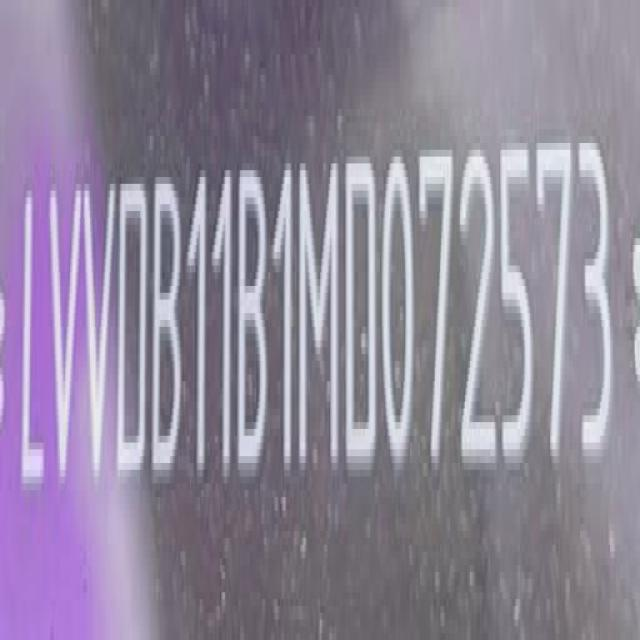0: (385, 146, 417, 482)
1: (273, 163, 296, 487), (211, 162, 233, 489), (190, 164, 210, 490)
2: (458, 138, 495, 480)
3: (582, 135, 616, 468)
5: (501, 137, 536, 473)
7: (420, 137, 455, 479), (540, 132, 574, 477)
B: (236, 158, 269, 486), (153, 167, 184, 488)
D: (347, 152, 381, 482), (116, 174, 150, 492)
L: (19, 183, 48, 510)
M: (296, 150, 341, 480)
V: (82, 175, 116, 497), (45, 180, 78, 502)
